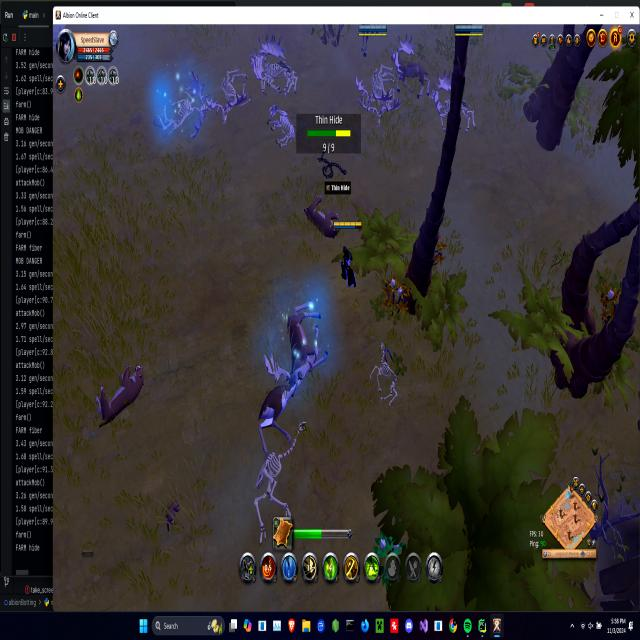hide: (373, 527, 404, 572), (382, 268, 408, 313), (598, 279, 620, 325)
mob: (93, 355, 145, 431), (255, 373, 302, 457), (280, 297, 327, 380), (301, 190, 341, 246), (393, 52, 434, 102)
red: (334, 217, 363, 291), (453, 24, 484, 38), (358, 24, 388, 38)
